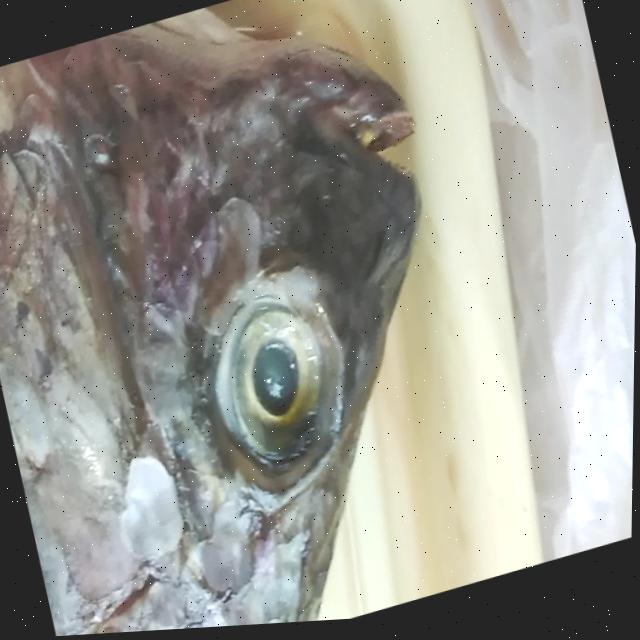Non-Fresh: (0, 0, 424, 405), (179, 271, 368, 513)
